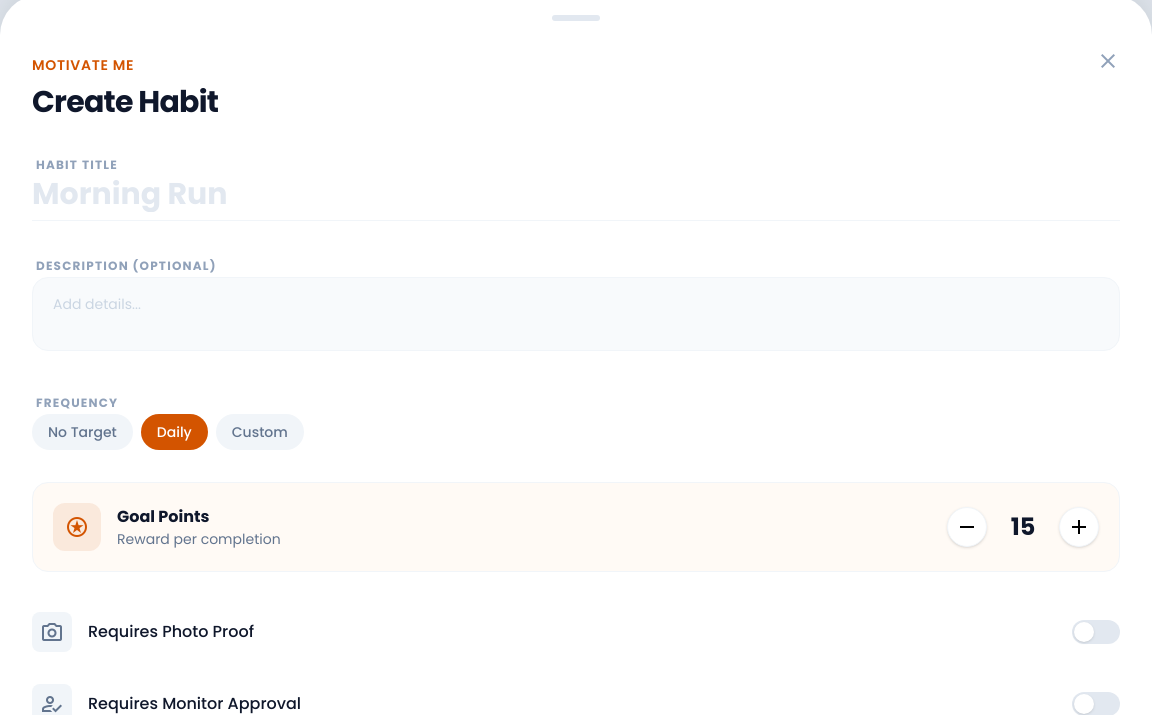
Scenario: CreateHabit › submit button is enabled when name is filled
In the field with placeholder "Morning Run": point(576, 194) [32,176,1120,212], type "Evening Walk"
(page scrolled)
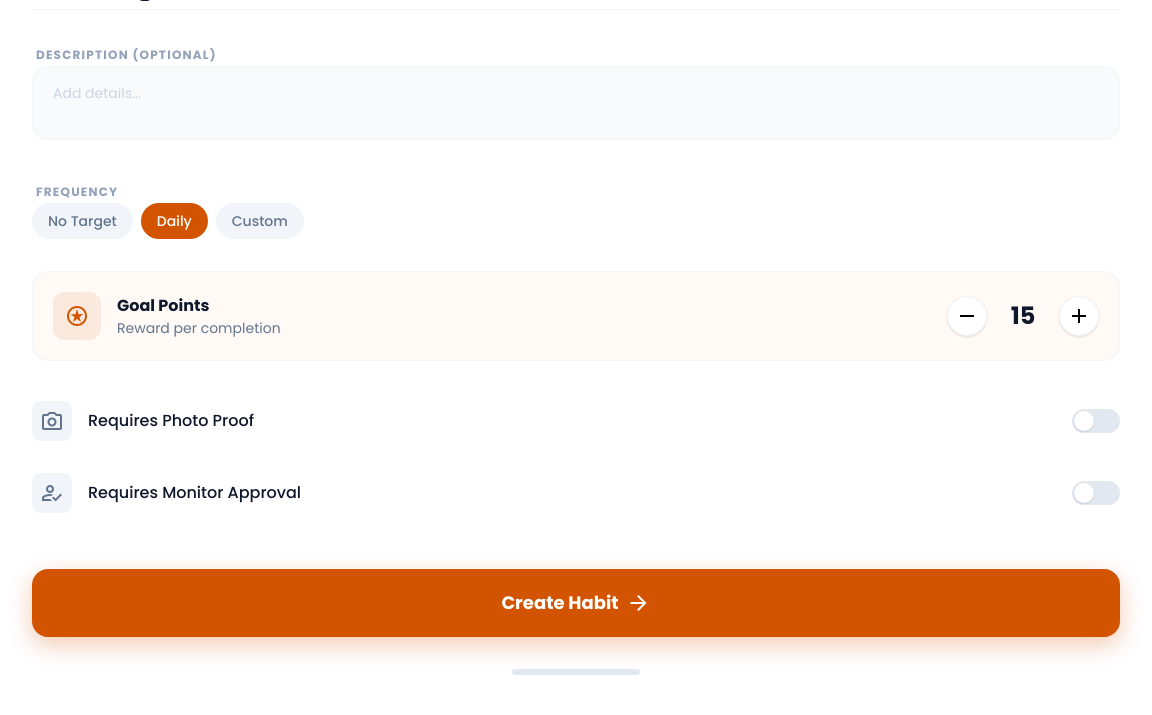
Check: the button "Create Habit" is enabled, box [32,569,1120,637]
